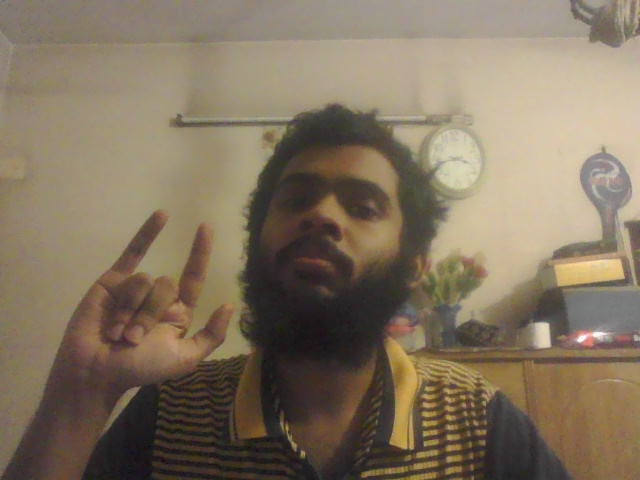I Love You: (62, 211, 232, 384)
